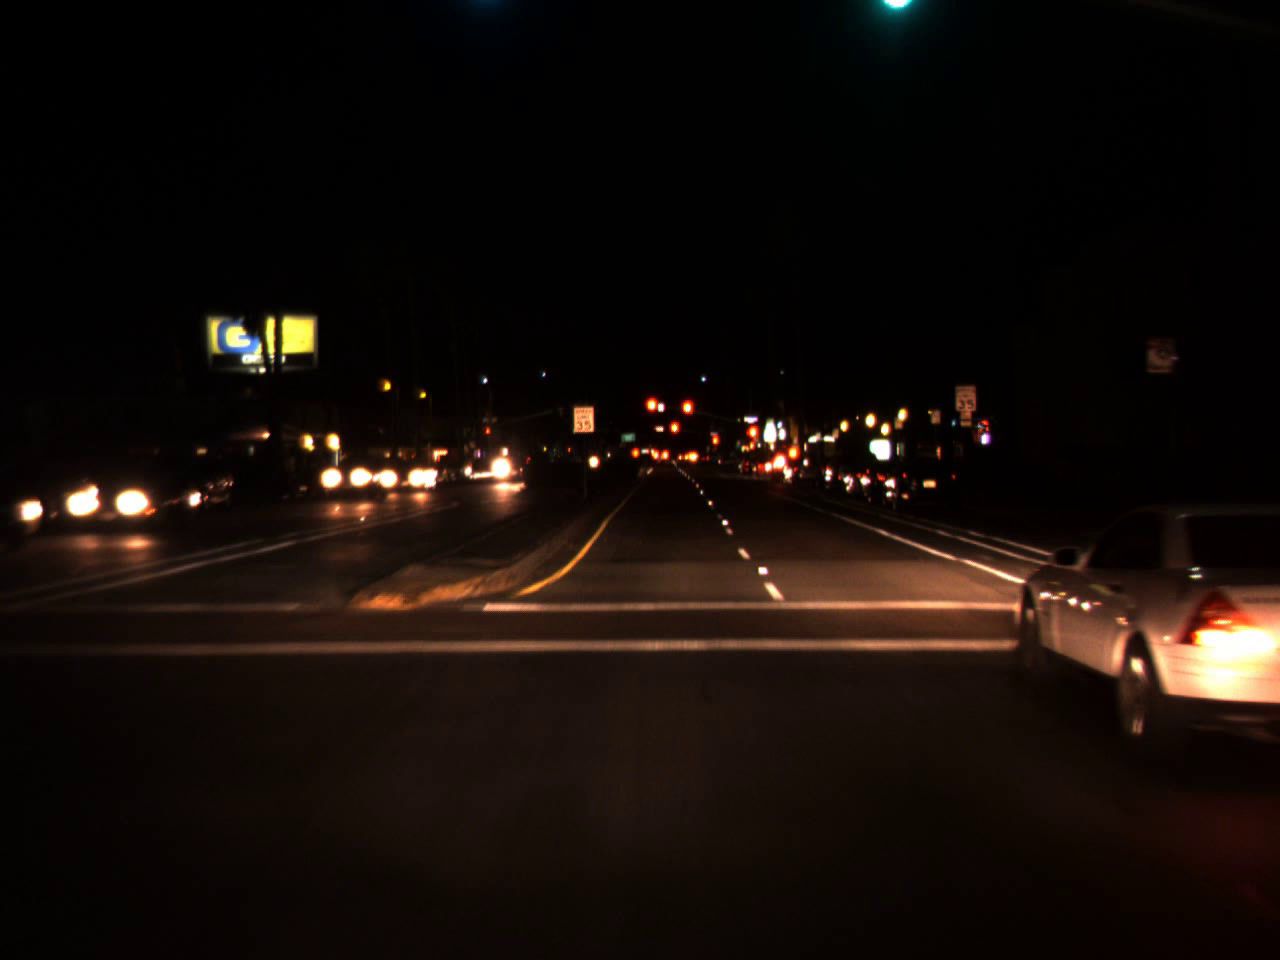stop: (643, 394, 661, 429), (680, 396, 695, 433), (669, 419, 681, 448), (711, 431, 720, 458), (748, 425, 757, 449), (485, 426, 491, 442)
